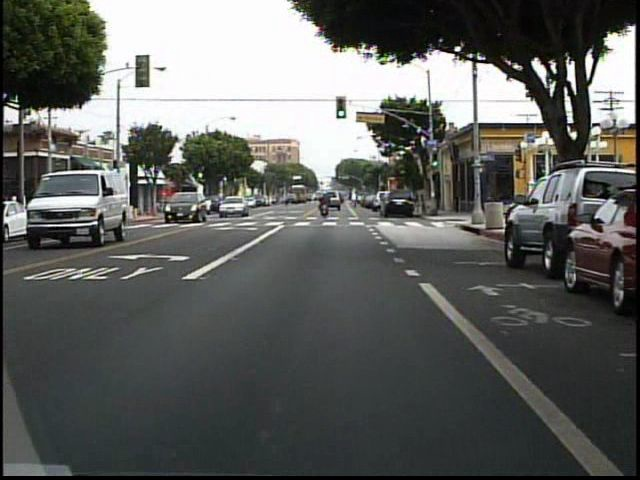person: (72, 191, 86, 221), (319, 190, 332, 219), (83, 190, 94, 221)
